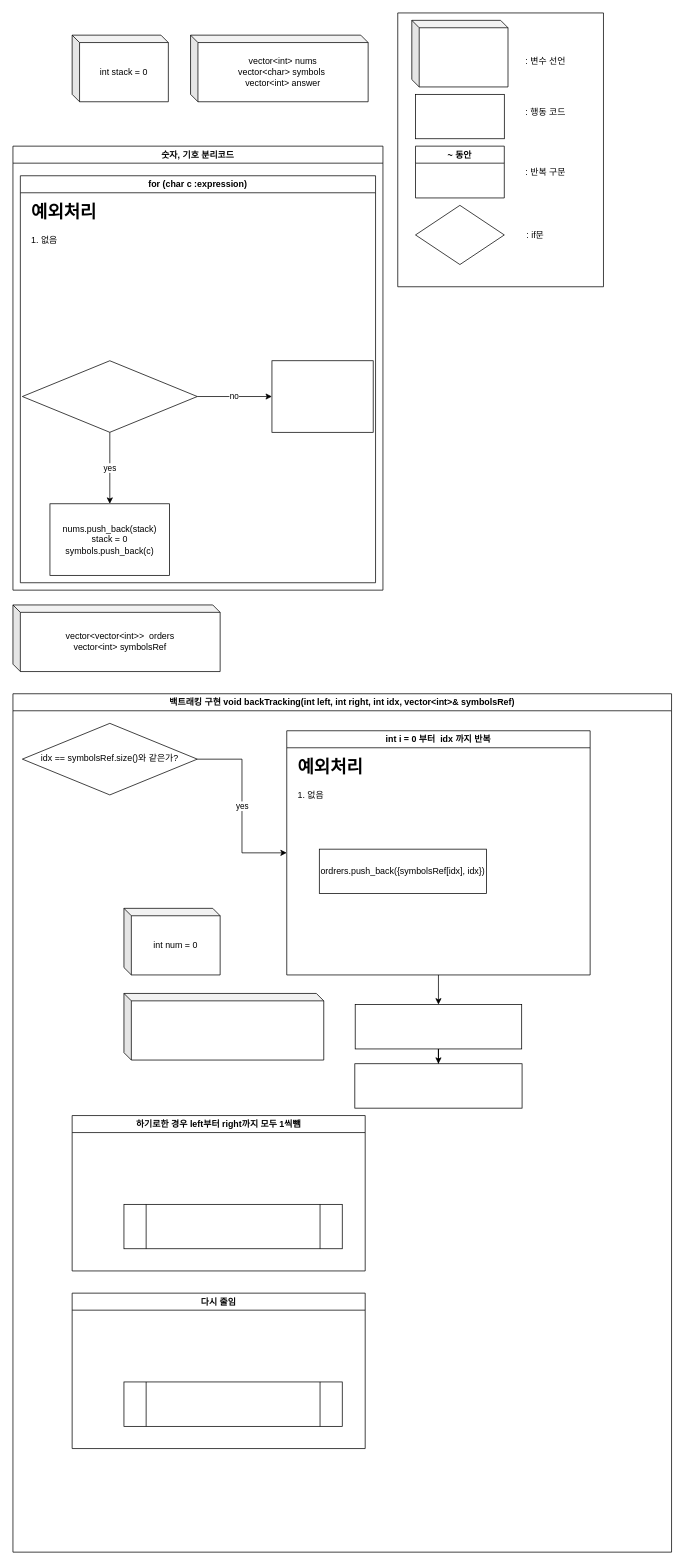
The diagram is 685 pixels wide and 1565 high, and some of its shapes have lost their labels. The centre of each missing label's shape, as x and y in pixels:
backTrackng(idx + 1, idx + 1, symbolsRef): point (232, 1403)
backTrackng(left, idx + 1, symbolsRef): point (232, 1226)
c - '0' 이 0보다 작거나 9보다 큰가: point (109, 396)
num = nums[orders[0][1] ];: point (438, 1085)
sort(orders.begin(), orders.end()): point (438, 1026)
stack *= 10; stack += c - '0': point (322, 396)
vector<int> tmpNums = nums: point (223, 1026)
